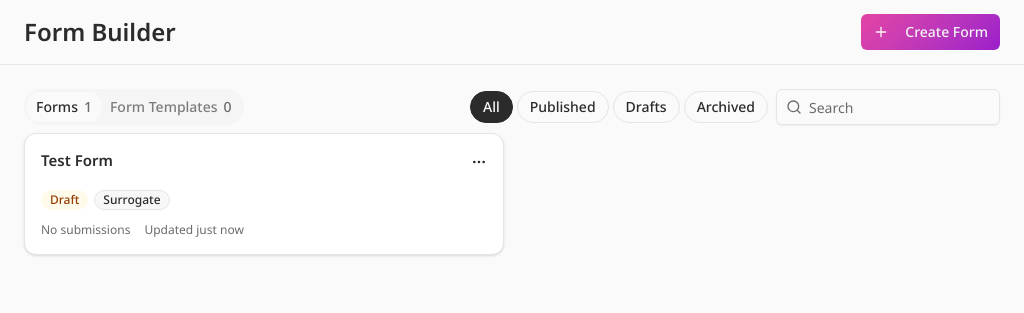
Test: FormsListPage delete › shows the form templates empty state without helper copy
Click the tab "Form Templates 0" at (171, 107), box [101,92,241,122]
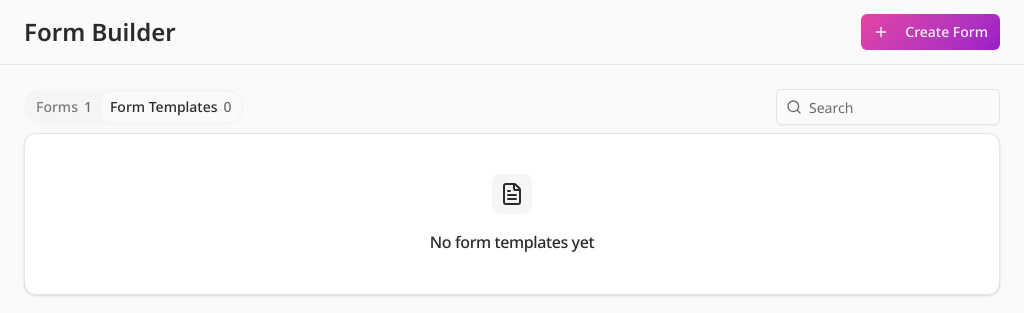
Check: the heading "No form templates yet" is shown, box [430,230,594,254]
